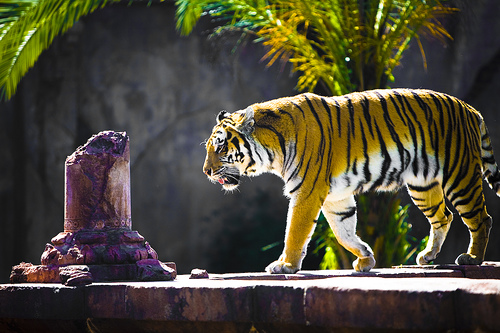Tigre: (197, 91, 491, 258)
